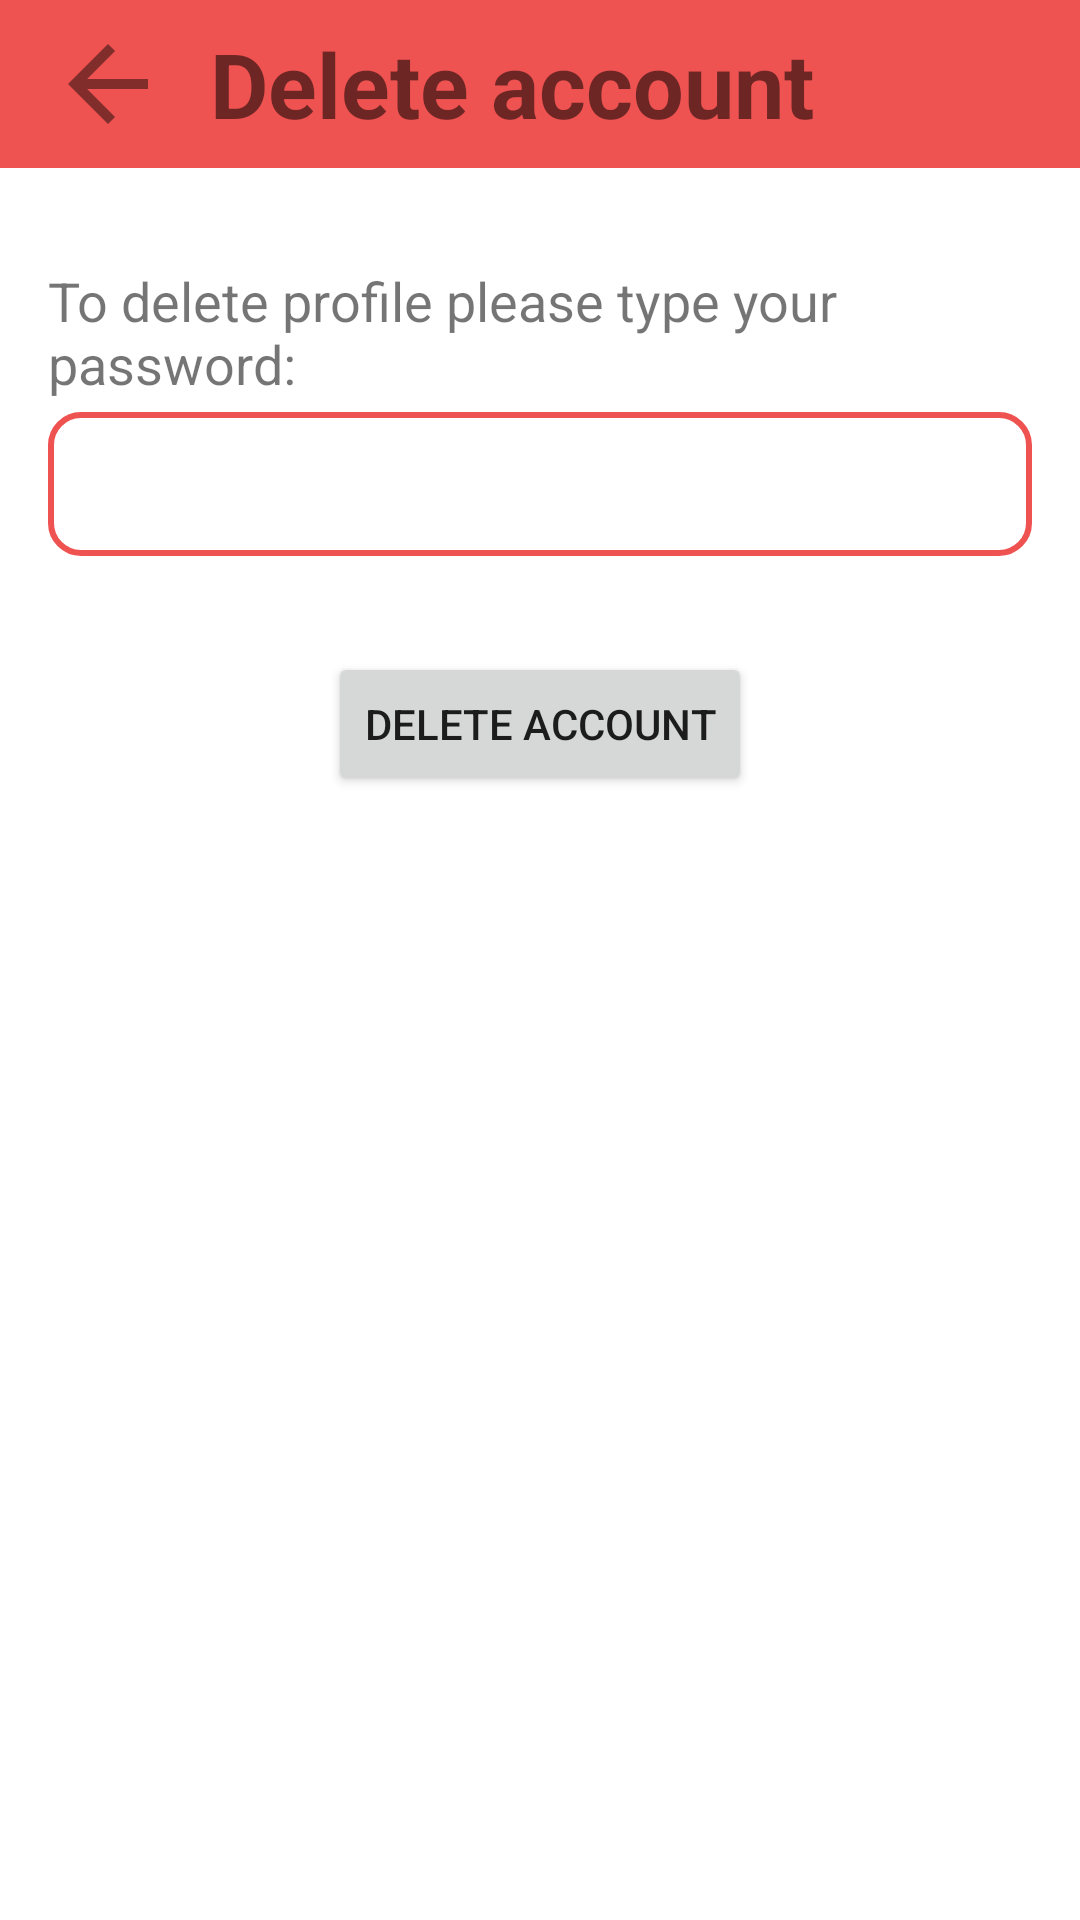

Where to tap for icons on this 1080px×1920px app screen, as point (x, y):
back arrow: point (108, 84)
